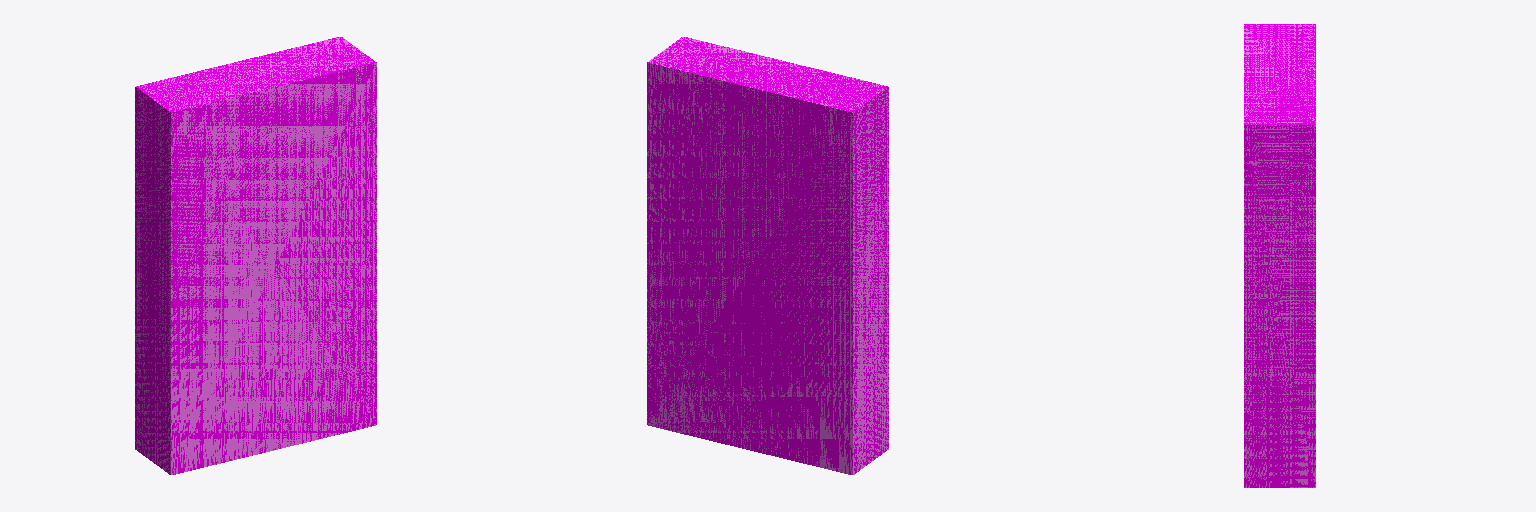
File: Skrin3.obj
3 renders of one model, left to right at view 1: azimuth 30°, elevation 25°; view 2: azimuth 150°, elevation 25°; view 3: azimuth 270°, elevation 25°, orthographic.
Parts seen in each view (by area): view 1: Mesh1 Skrin2_1 Model; view 2: Mesh1 Skrin2_1 Model; view 3: Mesh1 Skrin2_1 Model.
Boxes of the visible parts, <box> form: Mesh1 Skrin2_1 Model: <box>135,37,376,474</box>; Mesh1 Skrin2_1 Model: <box>647,37,888,474</box>; Mesh1 Skrin2_1 Model: <box>1244,24,1315,487</box>.
Bounding box in the file's own units: 1.5 × 2.53 × 0.45.